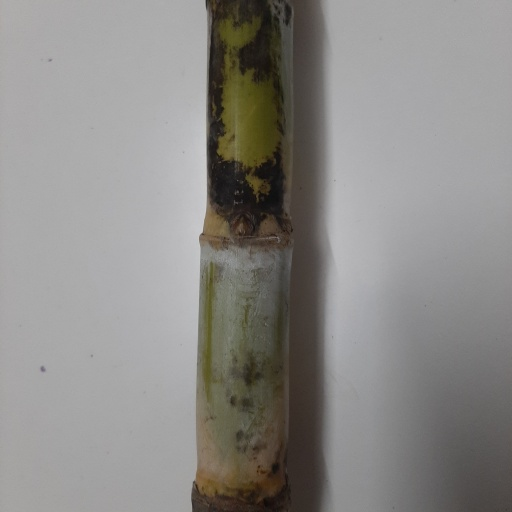Bud: (231, 212, 253, 238)
